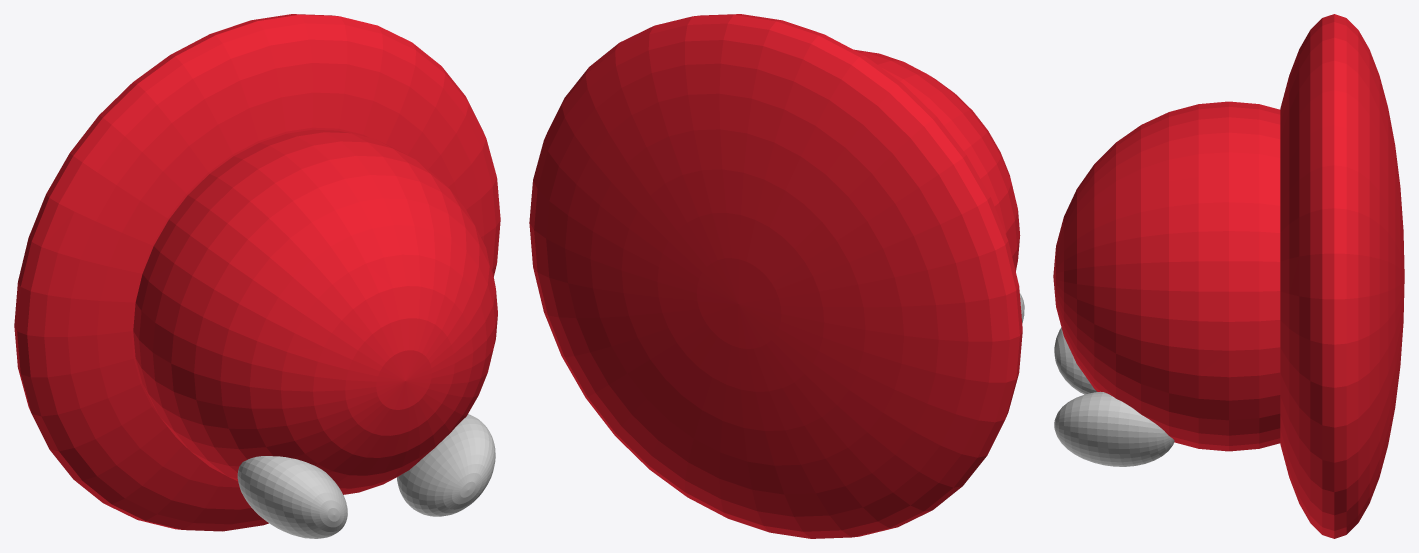
The model's file is red.obj.
3 views of the same model, side by side, from view 1: azimuth 30°, elevation 25°; view 2: azimuth 150°, elevation 25°; view 3: azimuth 270°, elevation 25° (orthographic). The views are drawn at different scales.
Visible parts, largest first — view 1: group_0_15277357, group_0_1650274; view 2: group_0_15277357; view 3: group_0_15277357, group_0_1650274.
Boxes of the visible parts, x1,y1,x2,y2 form: group_0_15277357: [14, 14, 500, 531]; group_0_1650274: [237, 414, 495, 538]; group_0_15277357: [529, 14, 1022, 538]; group_0_15277357: [1053, 14, 1404, 538]; group_0_1650274: [1054, 327, 1174, 466].
Bounding box in the file's own units: 30 × 30 × 20.
